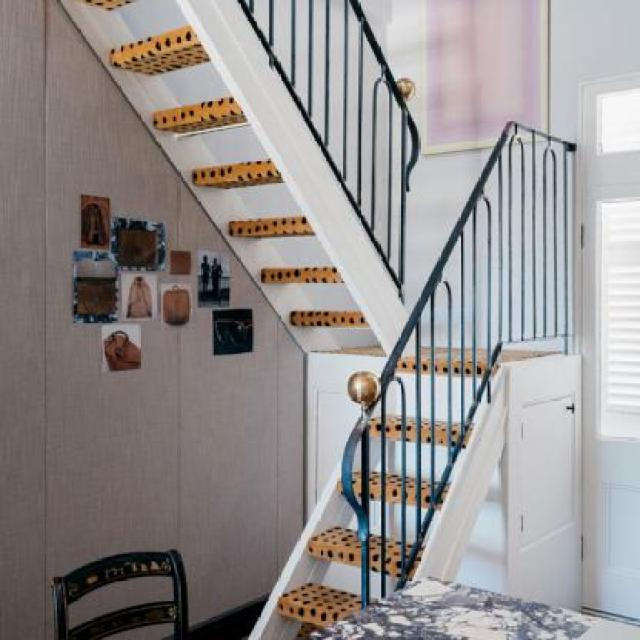stair: (200, 221, 591, 640)
